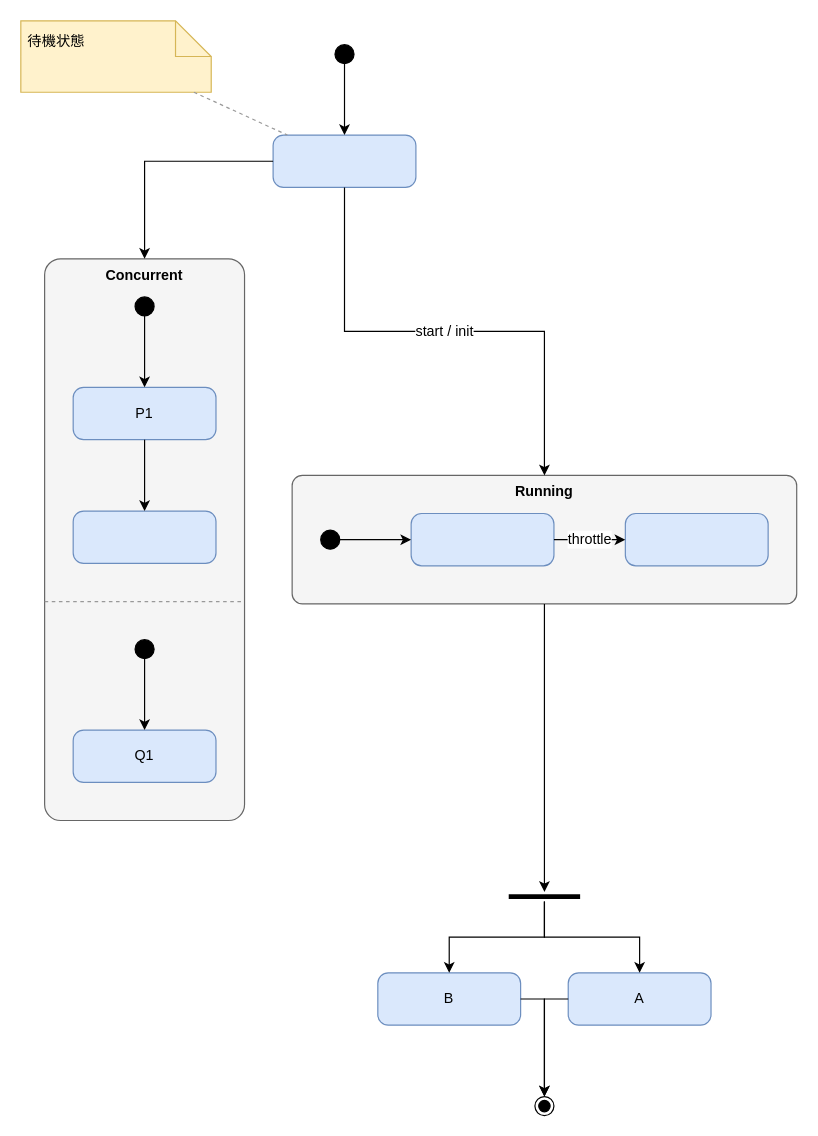
This 818x1136 diagram has some shape labels left out. The centre of each missing label's shape, as x and y in pixels:
"Fast" goes at (482,539).
"Idle" goes at (344,160).
"P2" goes at (144,536).
"Slow" goes at (696,539).
